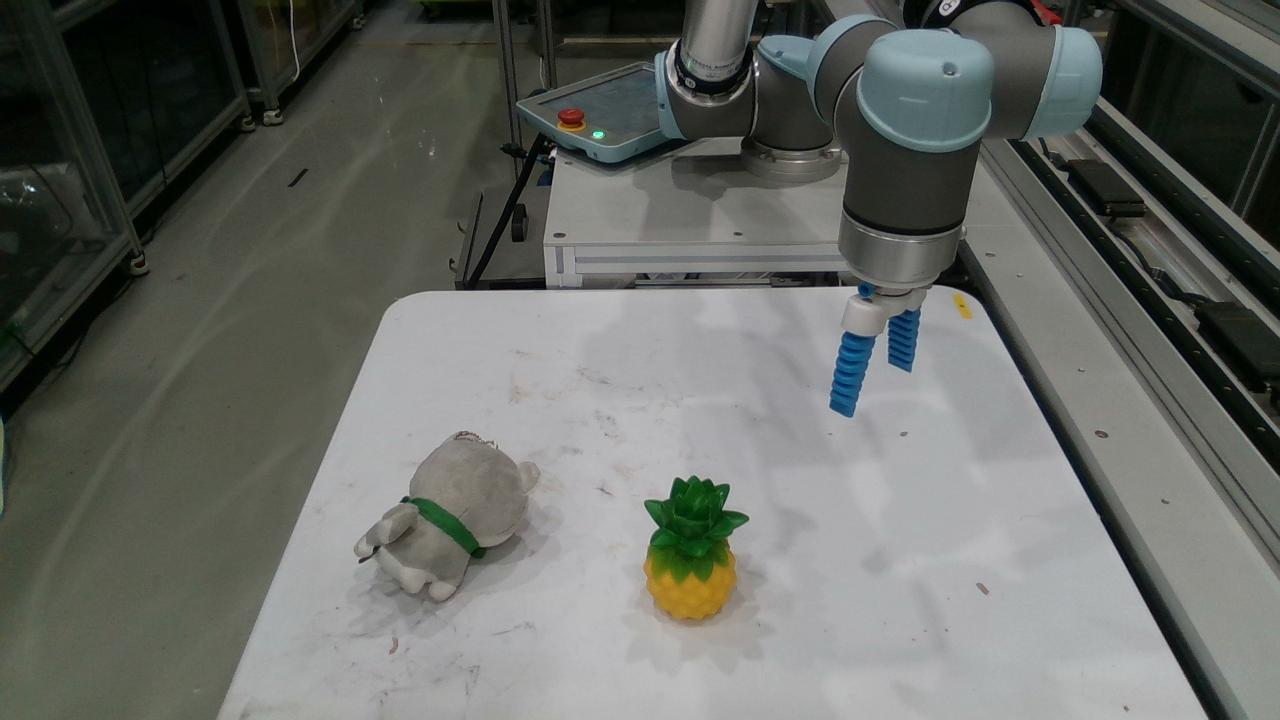UR5: (653, 0, 1104, 338)
gripper_left: (829, 331, 876, 418)
gripper_right: (888, 305, 922, 371)
target: (352, 431, 540, 601), (643, 474, 749, 622)
